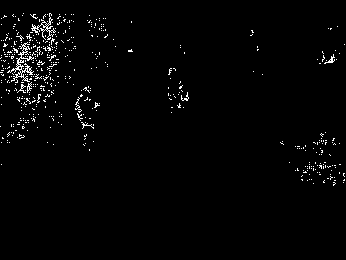person: (75, 84, 100, 154), (165, 64, 189, 115)
